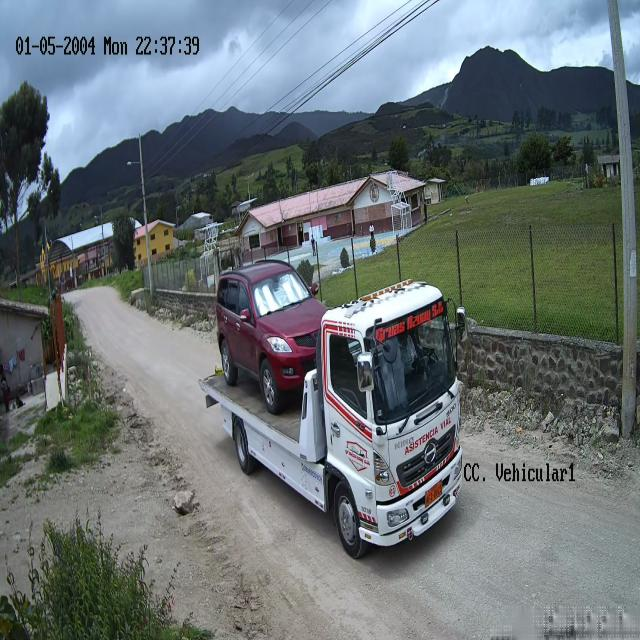SUV: (215, 261, 325, 413)
TRUCK: (203, 312, 463, 536)
